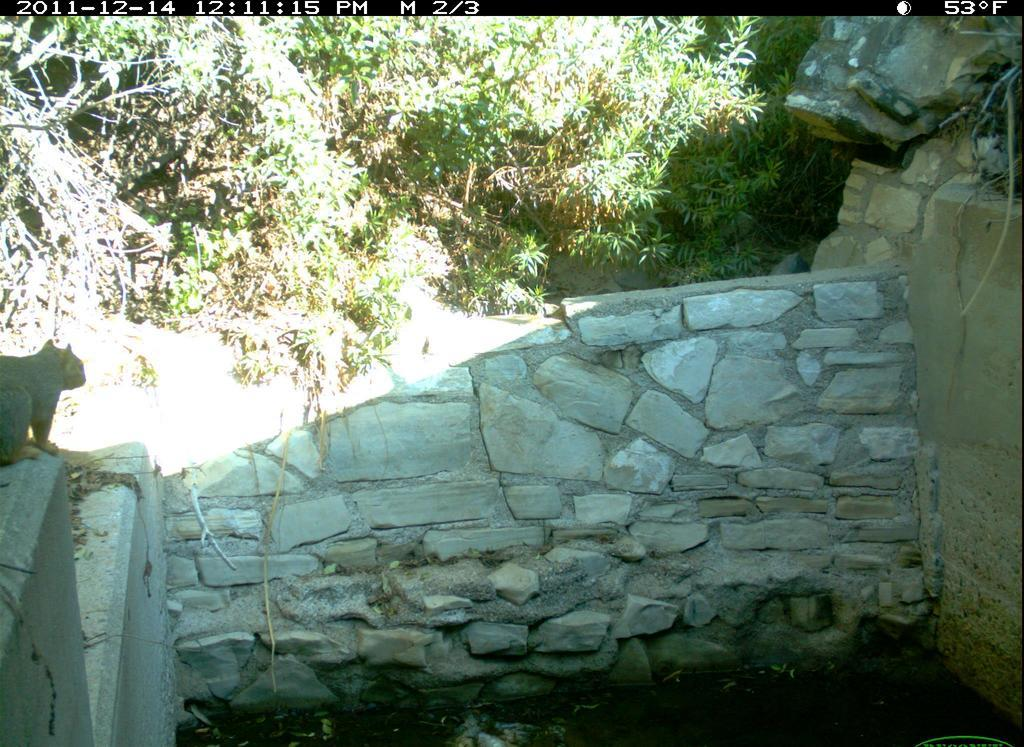squirrel: (1, 333, 103, 482)
